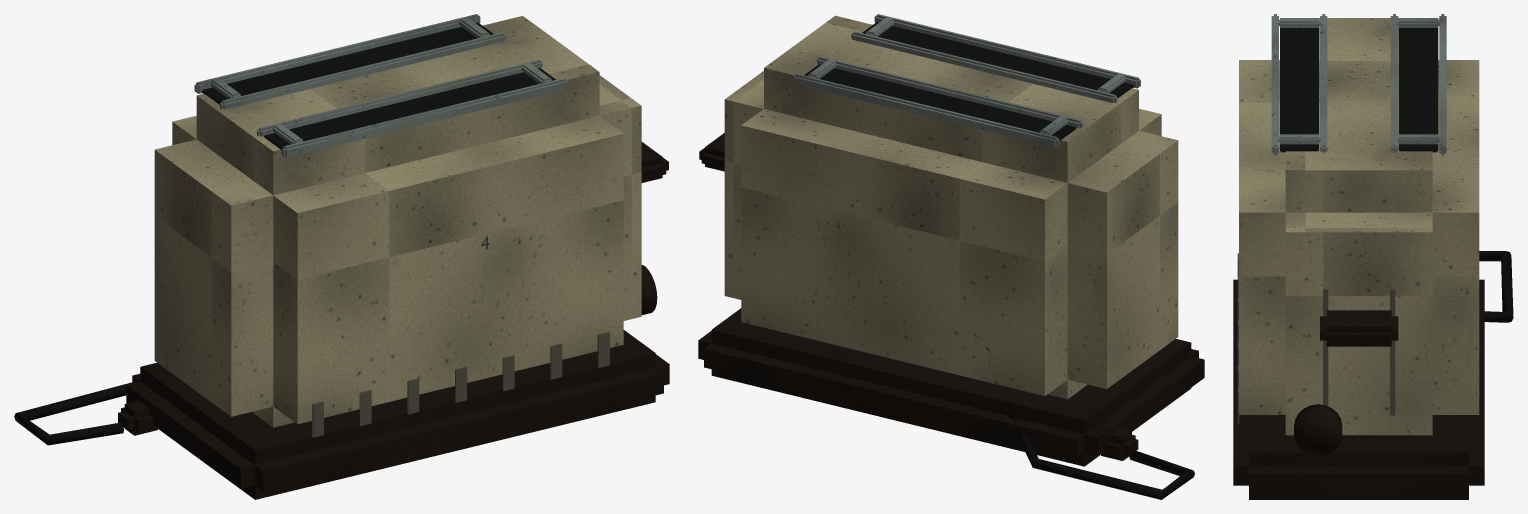
File: two_slot_toaster.glb
3 views of the same model, side by side, from view 1: azimuth 30°, elevation 25°; view 2: azimuth 150°, elevation 25°; view 3: azimuth 270°, elevation 25° (orthographic). The views are drawn at different scales.
Parts seen in each view (by area): view 1: HC02_two_slot_toaster; view 2: HC02_two_slot_toaster; view 3: HC02_two_slot_toaster.
Boxes of the visible parts, <box> form: HC02_two_slot_toaster: <box>14,14,669,499</box>; HC02_two_slot_toaster: <box>698,14,1204,499</box>; HC02_two_slot_toaster: <box>1233,14,1513,499</box>.
Bounding box in the file's own units: 0.333 × 0.19 × 0.1504.
Materials: 8 (7 with a texture image).
